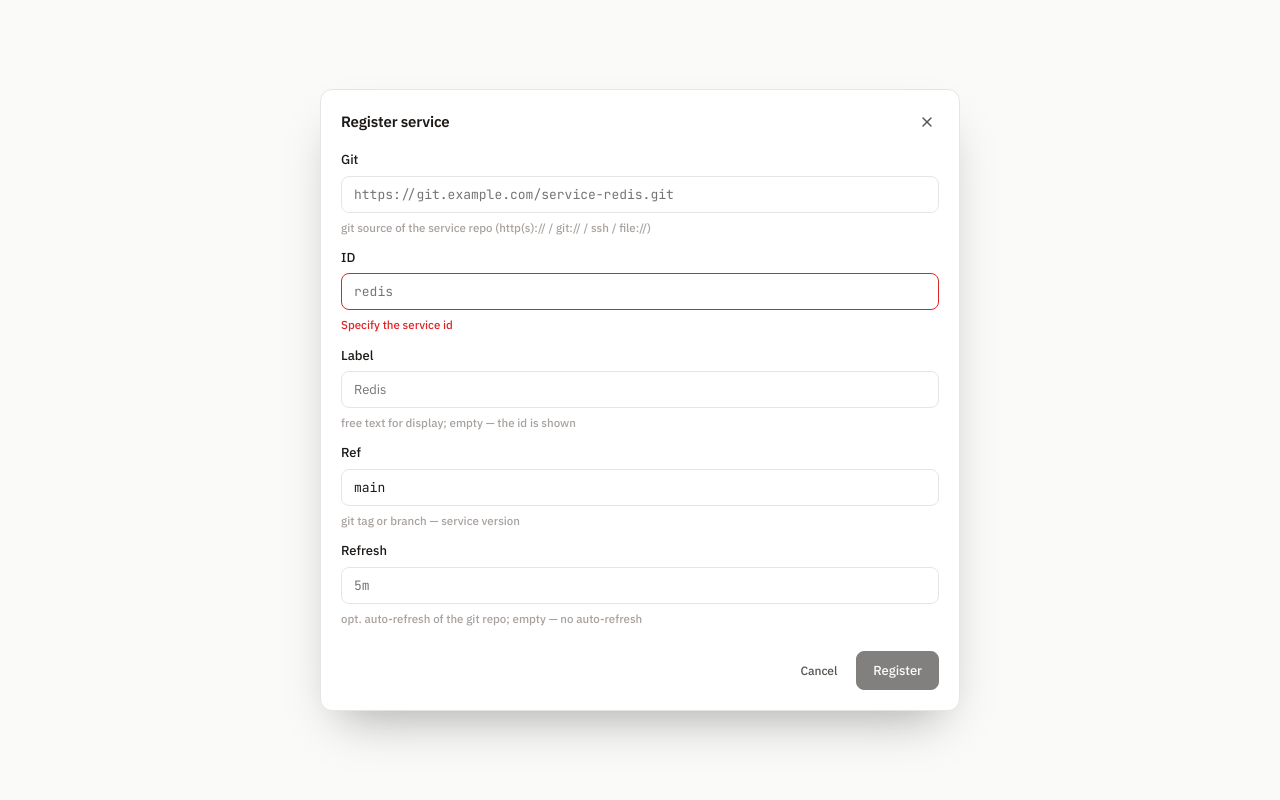
Scenario: RegisterServiceModal › proposes id and label from the last segment of the git path
This screenshot has width=1280, height=800.
Type "https://git.example.com/wb/service/redis.git" into the field with placeholder "https://git.example.com/service-redis.git" at (640, 194), box 341,176 -> 939,213
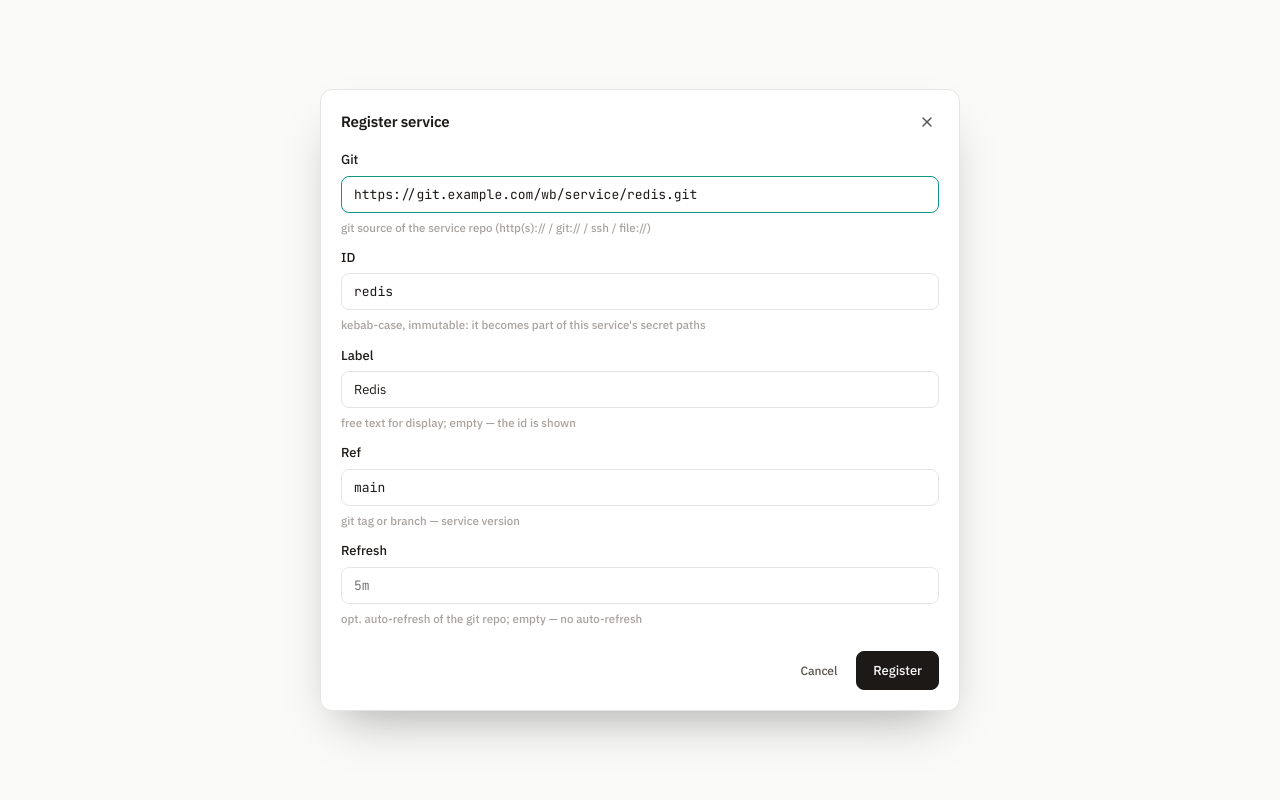
Expected: the field with placeholder "redis" holds "redis", 341,273 -> 939,310
Expected: the field with placeholder "Redis" holds "Redis", 341,371 -> 939,408
